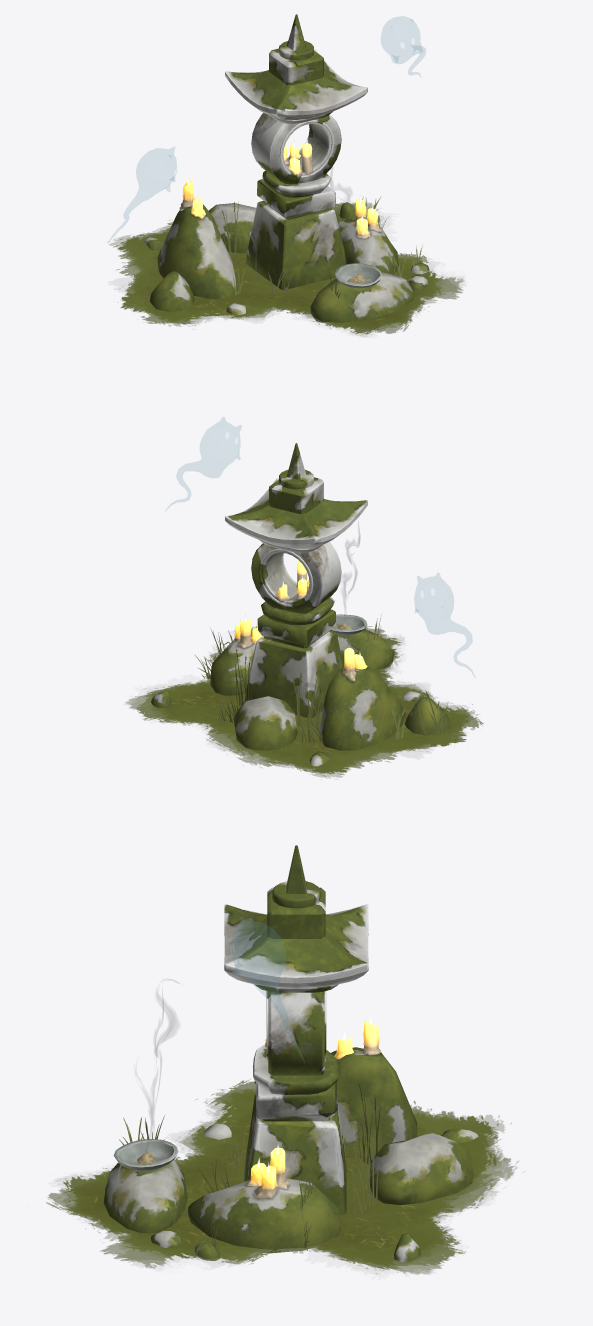
3 views of the same model, one above another, from view 1: azimuth 30°, elevation 25°; view 2: azimuth 150°, elevation 25°; view 3: azimuth 270°, elevation 25° (orthographic). The views are drawn at different scales.
Visible parts, largest first — view 1: Piece_1, Rocks, Plane, Piece_2, Candles, Plane.003, Plane.002, Grass, Dish; view 2: Piece_1, Rocks, Plane, Piece_2, Grass, Plane.003, Plane.002, Candles, Dish; view 3: Rocks, Plane, Piece_1, Piece_2, Plane.002, Grass, Candles, Dish, Plane.001.
Boxes of the visible parts, x1,y1,x2,y2 form: Piece_1: (225,41,367,289); Rocks: (144,202,429,322); Plane: (108,202,466,337); Piece_2: (262,14,334,197); Candles: (179,143,381,238); Plane.003: (108,147,176,242); Plane.002: (381,16,425,76); Grass: (144,196,426,306); Dish: (334,263,382,288); Piece_1: (225,469,367,718); Rocks: (151,629,450,766); Plane: (125,625,483,780); Piece_2: (258,443,334,625); Grass: (195,615,455,744); Plane.003: (414,573,475,678); Plane.002: (166,417,241,510); Candles: (233,561,367,681); Dish: (331,614,367,635); Rocks: (103,1047,478,1262); Plane: (45,1079,524,1275); Piece_1: (224,881,368,1214); Piece_2: (253,845,340,1094); Plane.002: (231,917,304,1062); Grass: (119,1079,417,1250); Candles: (245,1020,380,1199); Dish: (113,1139,178,1170); Plane.001: (144,979,178,1142).
Size of the model in its own units: 6.09 by 4.12 by 6.
11 materials, 11 textured.
